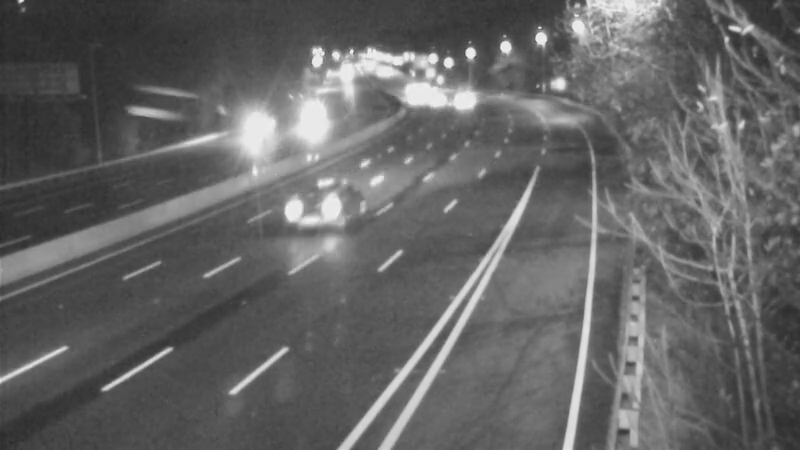vehicle: (279, 168, 359, 248), (410, 74, 460, 124), (391, 72, 441, 122), (438, 72, 488, 122), (230, 107, 280, 157), (288, 86, 338, 136)
